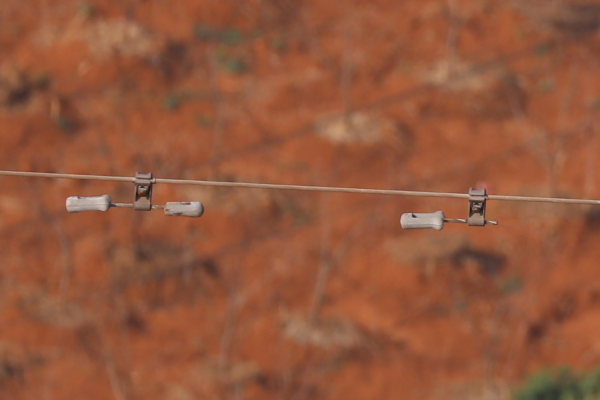damper: (63, 169, 208, 220)
damper_defect: (397, 184, 500, 235)
